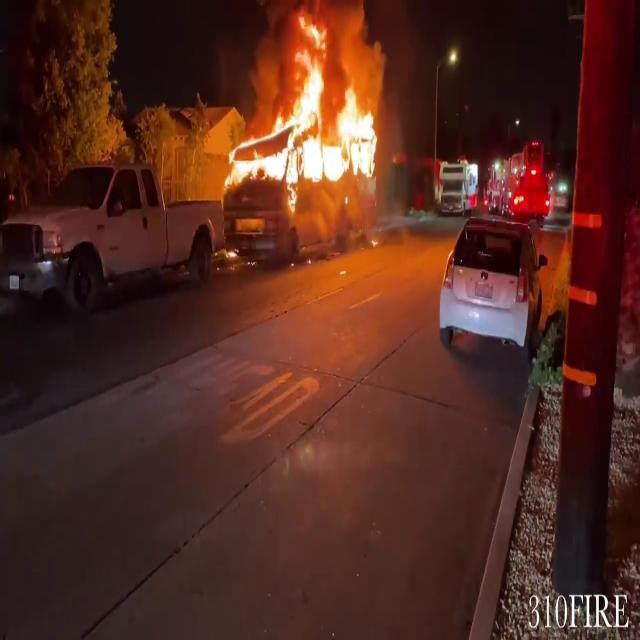Fire: (220, 3, 392, 238)
